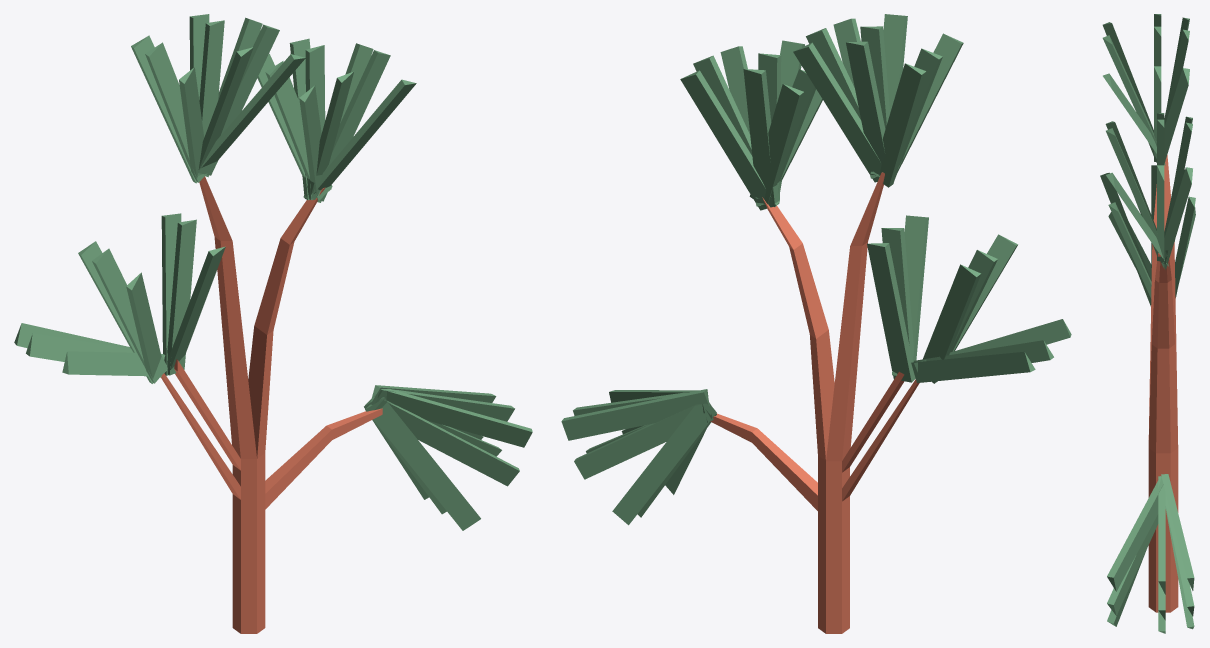
File: ラタンヤシ_1.fbx
3 views of the same model, side by side, from view 1: azimuth 30°, elevation 25°; view 2: azimuth 150°, elevation 25°; view 3: azimuth 270°, elevation 25° (orthographic). The views are drawn at different scales.
Parts seen in each view (by area): view 1: 立方体.032, 円柱; view 2: 立方体.032, 円柱; view 3: 立方体.032, 円柱.
Boxes of the visible parts, left/top/right/bottom form: 立方体.032: left=14, top=14, right=532, bottom=530; 円柱: left=161, top=176, right=382, bottom=633; 立方体.032: left=561, top=14, right=1071, bottom=525; 円柱: left=710, top=172, right=919, bottom=633; 立方体.032: left=1100, top=14, right=1195, bottom=633; 円柱: left=1148, top=155, right=1178, bottom=612.
Size of the model in its own units: 687 by 835 by 129.
